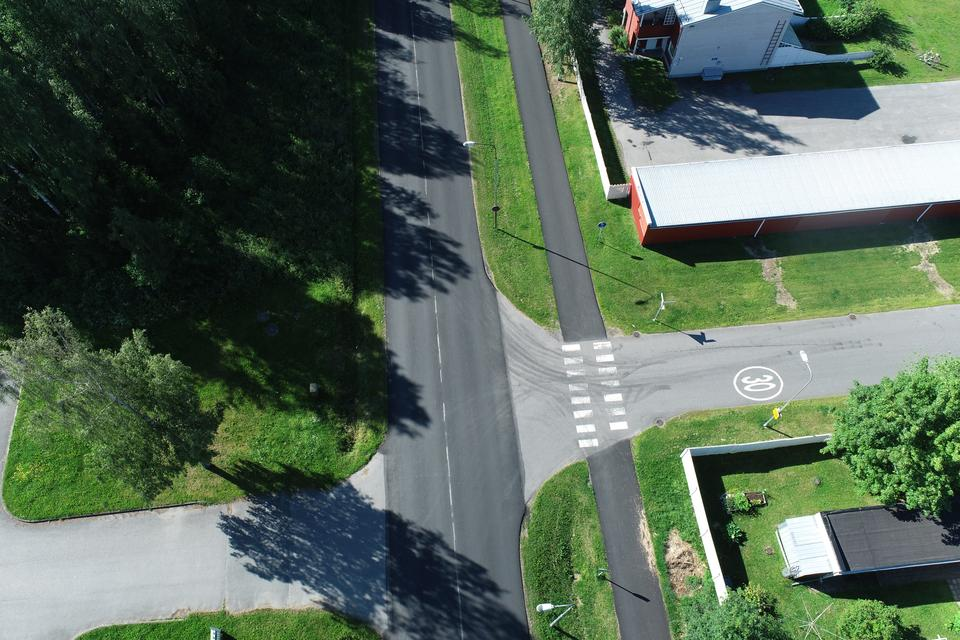intersection: (316, 282, 685, 623)
